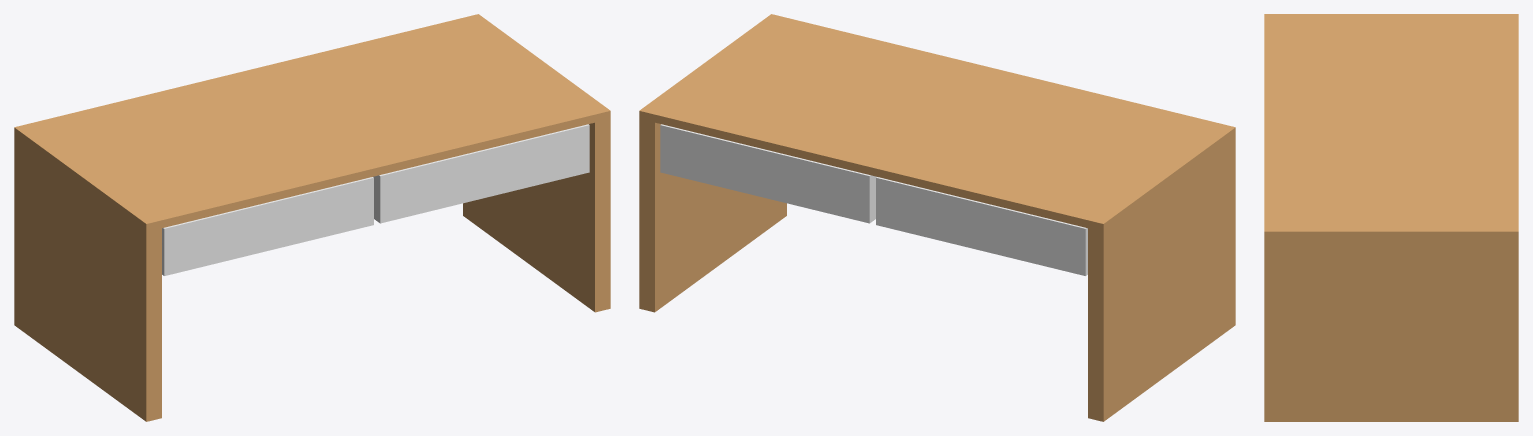
The model's file is desk.glb.
3 renders of one model, left to right at view 1: azimuth 30°, elevation 25°; view 2: azimuth 150°, elevation 25°; view 3: azimuth 270°, elevation 25°, orthographic. The views are drawn at different scales.
Parts seen in each view (by area): view 1: Cube; view 2: Cube; view 3: Cube.
Part boxes in pixels (x1,y1,x2,y2): Cube: (14,14,610,421); Cube: (639,14,1235,421); Cube: (1264,14,1518,421).
Size of the model in its own units: 2 by 0.8146 by 0.9864.
